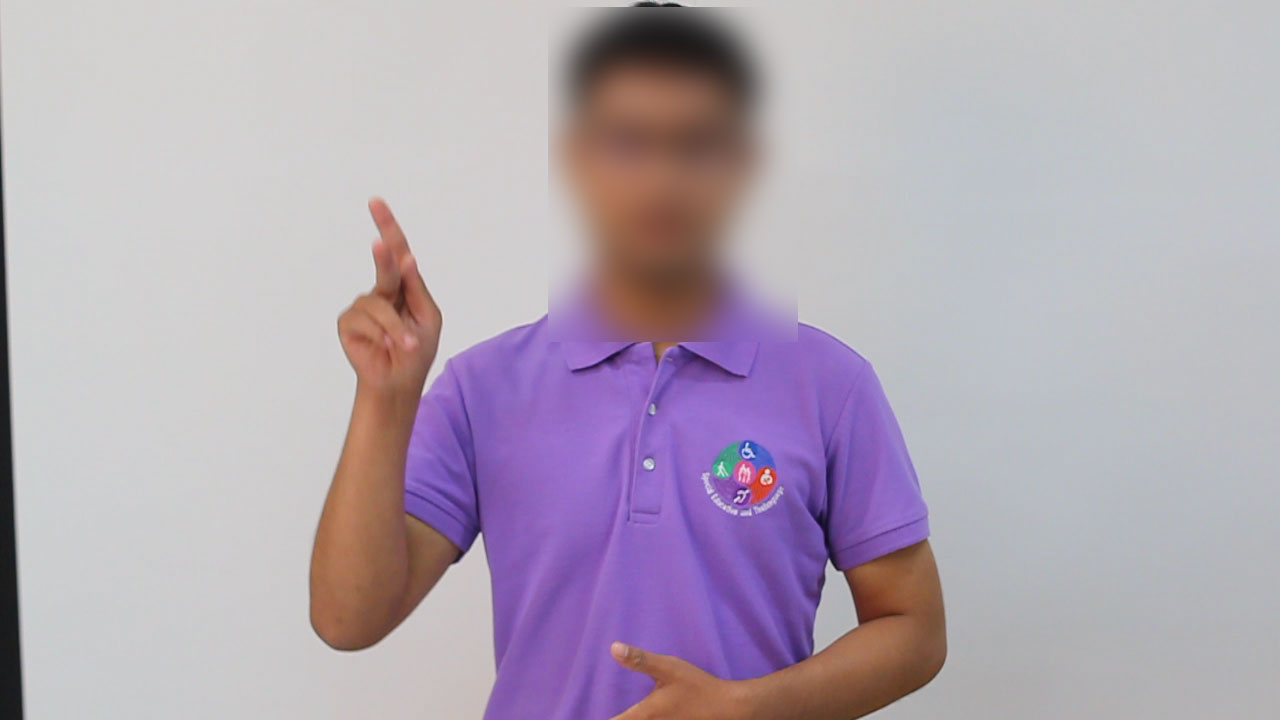ko: (272, 168, 516, 427)
